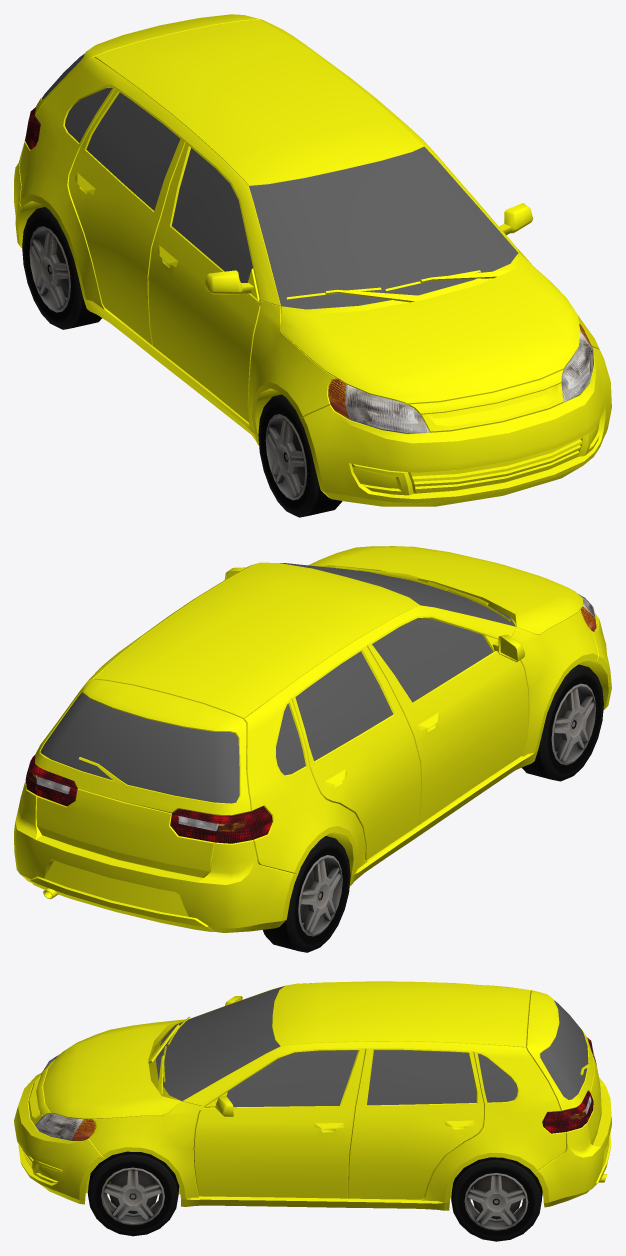
File: pack_hatchback.glb
3 renders of one model, top to bottom at view 1: azimuth 30°, elevation 25°; view 2: azimuth 150°, elevation 25°; view 3: azimuth 270°, elevation 25°, orthographic. The views are drawn at different scales.
Visible parts, largest first — view 1: Hatchback Body, Wheel_B002, Wheel_B003; view 2: Hatchback Body, Wheel_B003, Wheel_B002; view 3: Hatchback Body, Wheel_B, Wheel_B001.
Boxes of the visible parts, x1,y1,x2,y2 form: Hatchback Body: (14,14,611,506); Wheel_B002: (258,394,342,517); Wheel_B003: (22,207,101,329); Hatchback Body: (14,546,611,932); Wheel_B003: (263,836,350,952); Wheel_B002: (521,664,603,781); Hatchback Body: (14,981,611,1210); Wheel_B: (88,1151,179,1236); Wheel_B001: (451,1157,542,1241).
Bounding box in the file's own units: 1.97 × 1.52 × 4.45.
Materials: 4 (2 with a texture image).
